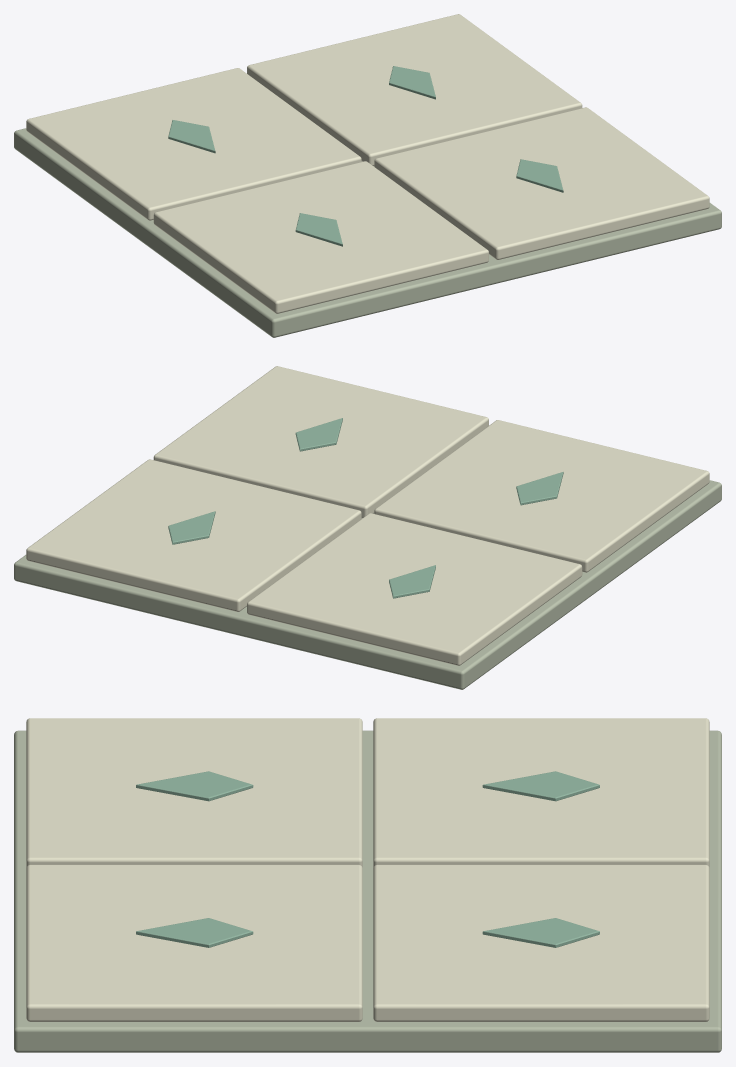
The model's file is enchanted-harp-garden-and-music-sanctuary-garden-pavin-ae5e2ddf__30396.glb.
The picture shows the model from 3 angles, top to bottom: view 1: azimuth 30°, elevation 25°; view 2: azimuth 150°, elevation 25°; view 3: azimuth 270°, elevation 25°; orthographic projection. The views are drawn at different scales.
Parts seen in each view (by area): view 1: garden-paving-panel; view 2: garden-paving-panel; view 3: garden-paving-panel.
Boxes of the visible parts, x1,y1,x2,y2 form: garden-paving-panel: (14, 14, 721, 337); garden-paving-panel: (14, 366, 721, 689); garden-paving-panel: (14, 718, 721, 1052).
Size of the model in its own units: 2 by 0.146 by 2.
